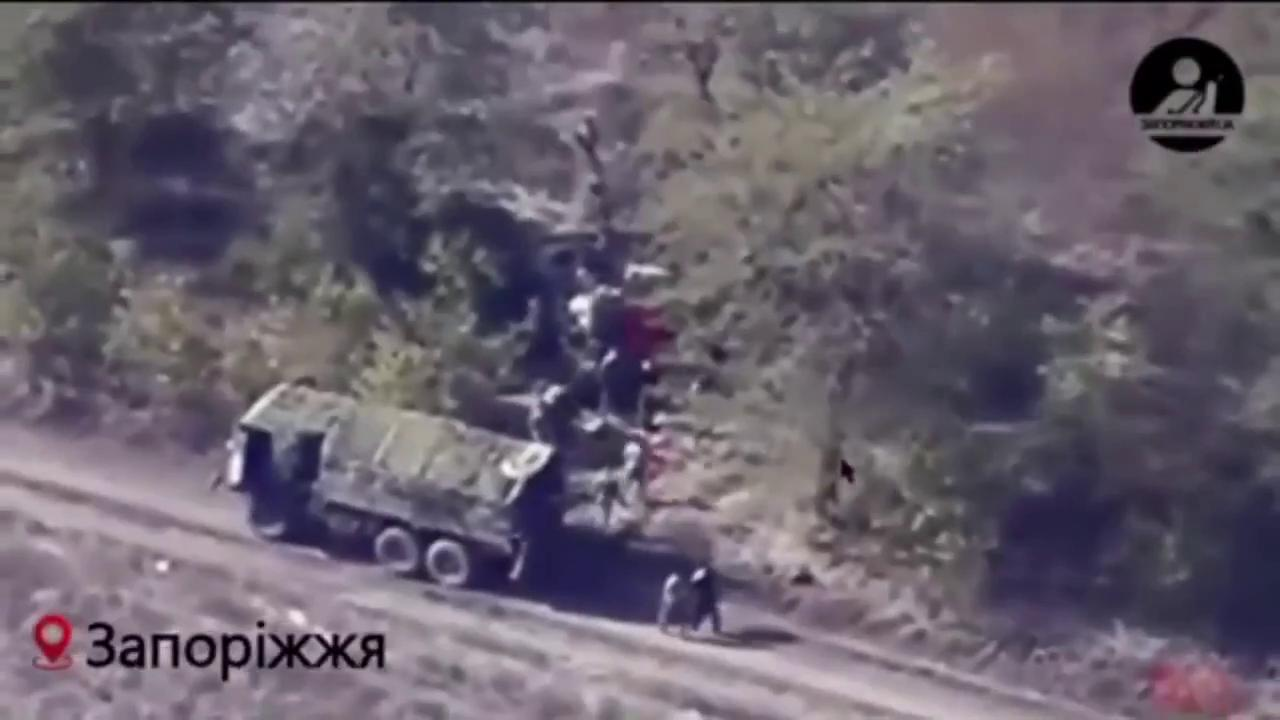tank: (217, 377, 565, 600), (551, 269, 652, 434)
